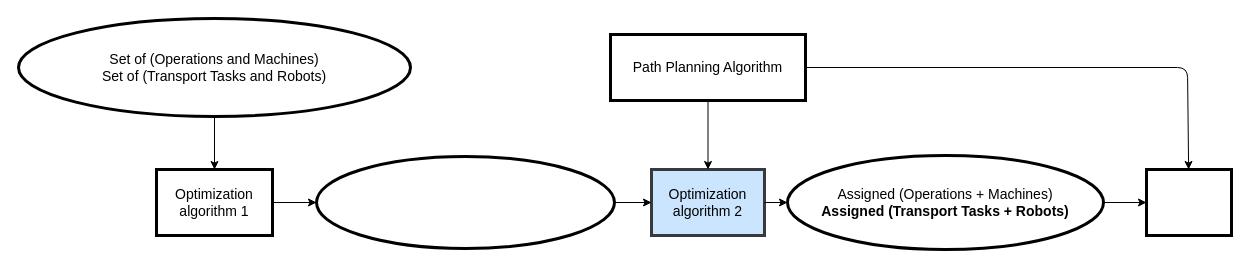
Some shapes in this 1250 by 268 pixel diagram are drawn without their labels. Here are the shapes that lost their labels. From the top down, the centre of each, then its label:
point 465,202: Assigned ( Operations + Machines) Set of (Transport Tasks and Robots)
point 1188,202: Simulation
